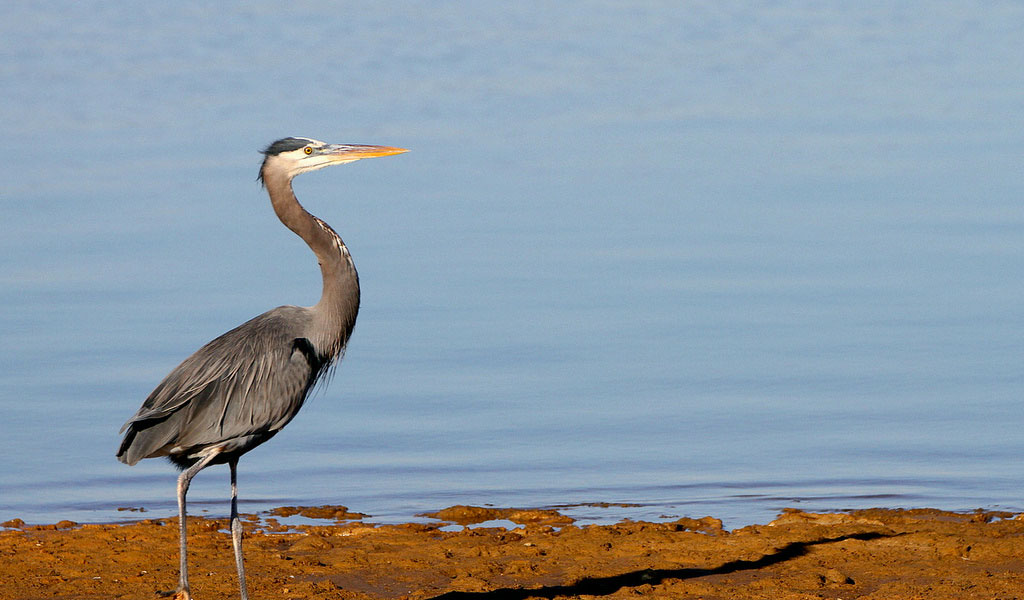heron: (116, 132, 418, 600)
